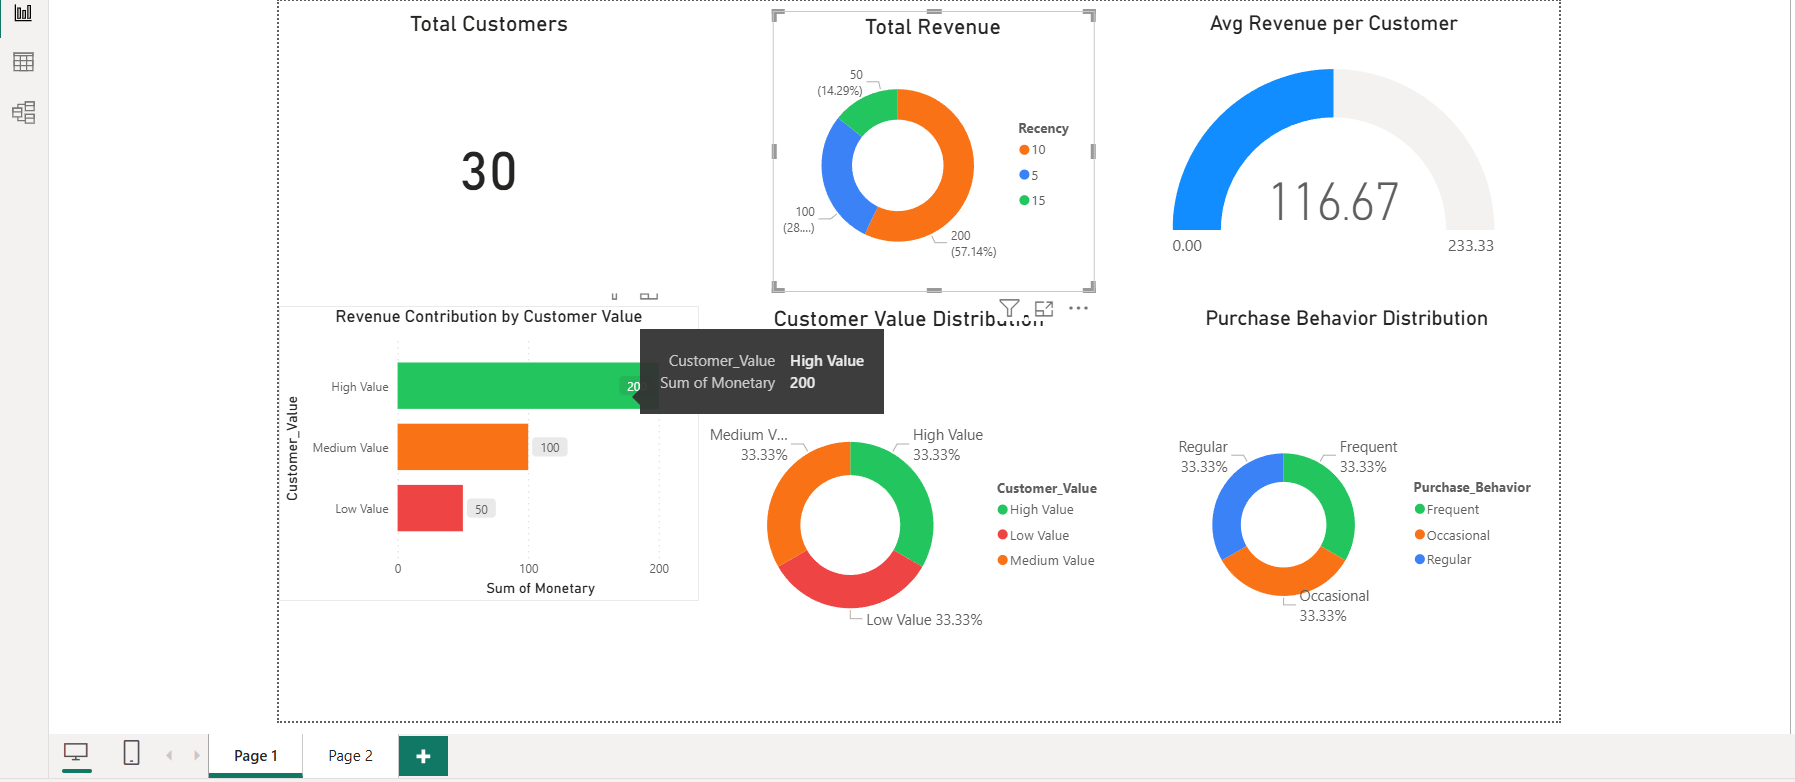

Layout of this report page (visuals, bound fields, positions):
{"tool":"powerbi","page":{"name":"Page 1","canvas":[1280,720],"ordinal":0},"visuals":[{"type":"donutChart","title":"Customer Value Distribution","fields":{"Category":["Consumer360_RFM_Final (2).Customer_Value"],"Y":["Count(Consumer360_RFM_Final (2).customer_id)"]},"box":[420,304.8,420,414.6],"z":0},{"type":"clusteredBarChart","title":"Revenue Contribution by Customer Value","fields":{"Category":["Consumer360_RFM_Final (2).Customer_Value"],"Y":["Sum(Consumer360_RFM_Final (2).Monetary)"]},"box":[0,304.8,420,295.3],"z":1000},{"type":"donutChart","title":"Purchase Behavior Distribution","fields":{"Category":["Consumer360_RFM_Final (2).Purchase_Behavior"],"Y":["Count(Consumer360_RFM_Final (2).customer_id)"]},"box":[869.8,304.8,395.6,414.6],"z":2000},{"type":"donutChart","title":"Total Revenue","fields":{"Y":["Sum(Consumer360_RFM_Final (2).Monetary)"],"Category":["Consumer360_RFM_Final (2).Recency"]},"box":[493.2,9.5,322.4,281.8],"z":3000},{"type":"gauge","title":"Avg Revenue per Customer","fields":{"Y":["Avg(Consumer360_RFM_Final (2).Monetary)"]},"box":[888.7,9.5,331.9,285.9],"z":4000},{"type":"card","title":"Total Customers","fields":{"Values":["Sum(Consumer360_RFM_Final (2).Recency)"]},"box":[0,9.5,420,282],"z":5000}]}

Visuals, with their boxes on the page's 1280x720 design canvas (x1, y1, x2, y2). These are canvas units, not pixel positions in the 1795x782 screenshot, which may show the page scaled, cropped or inside an application window:
"Customer Value Distribution" donutChart: x1=420, y1=305, x2=840, y2=719
"Revenue Contribution by Customer Value" clusteredBarChart: x1=0, y1=305, x2=420, y2=600
"Purchase Behavior Distribution" donutChart: x1=870, y1=305, x2=1265, y2=719
"Total Revenue" donutChart: x1=493, y1=10, x2=816, y2=291
"Avg Revenue per Customer" gauge: x1=889, y1=10, x2=1221, y2=295
"Total Customers" card: x1=0, y1=10, x2=420, y2=292
